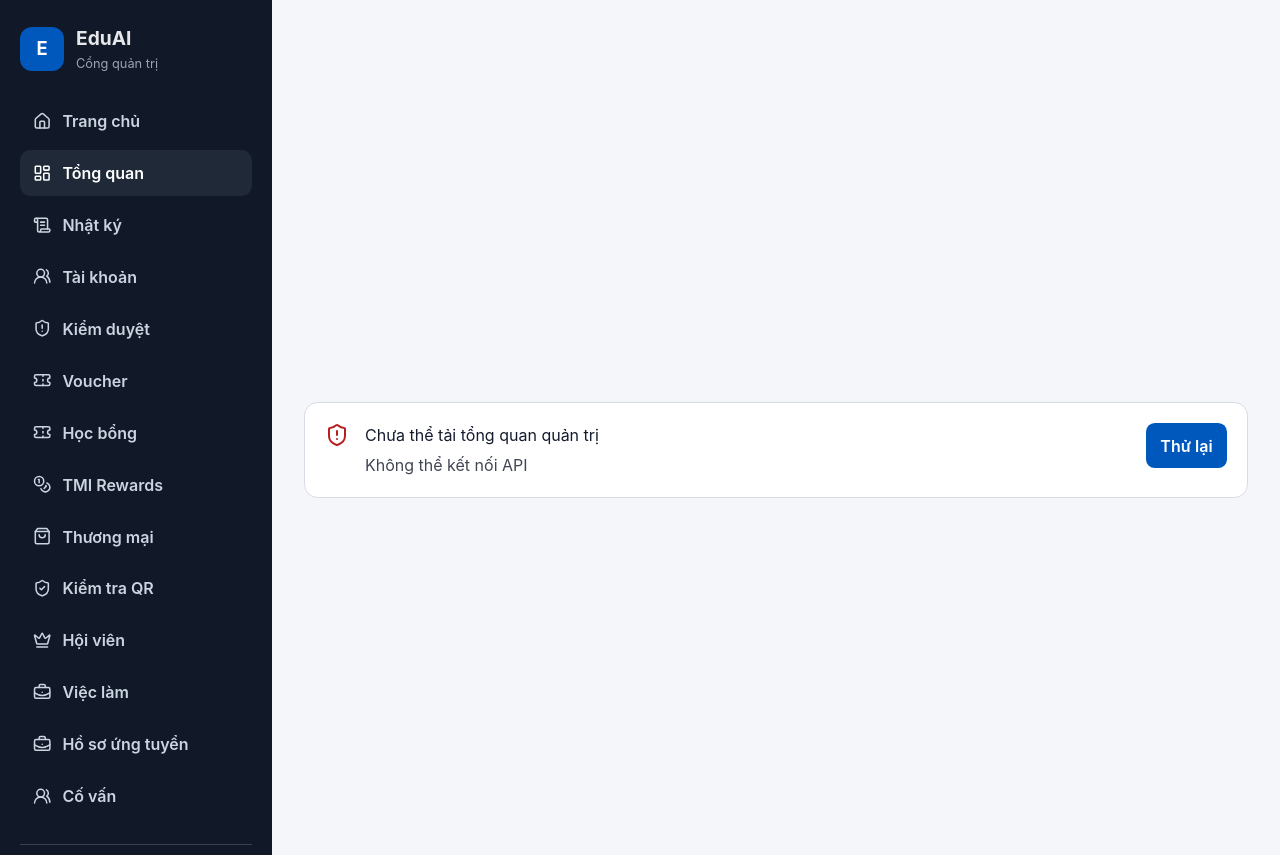
Test: AdminDashboard › retries after an API error
Expected: the message shows "Không thể kết nối API", [365,455,528,475]
Step 1. Click the button "Thử lại" → point(1186, 446), box [1146,423,1227,468]
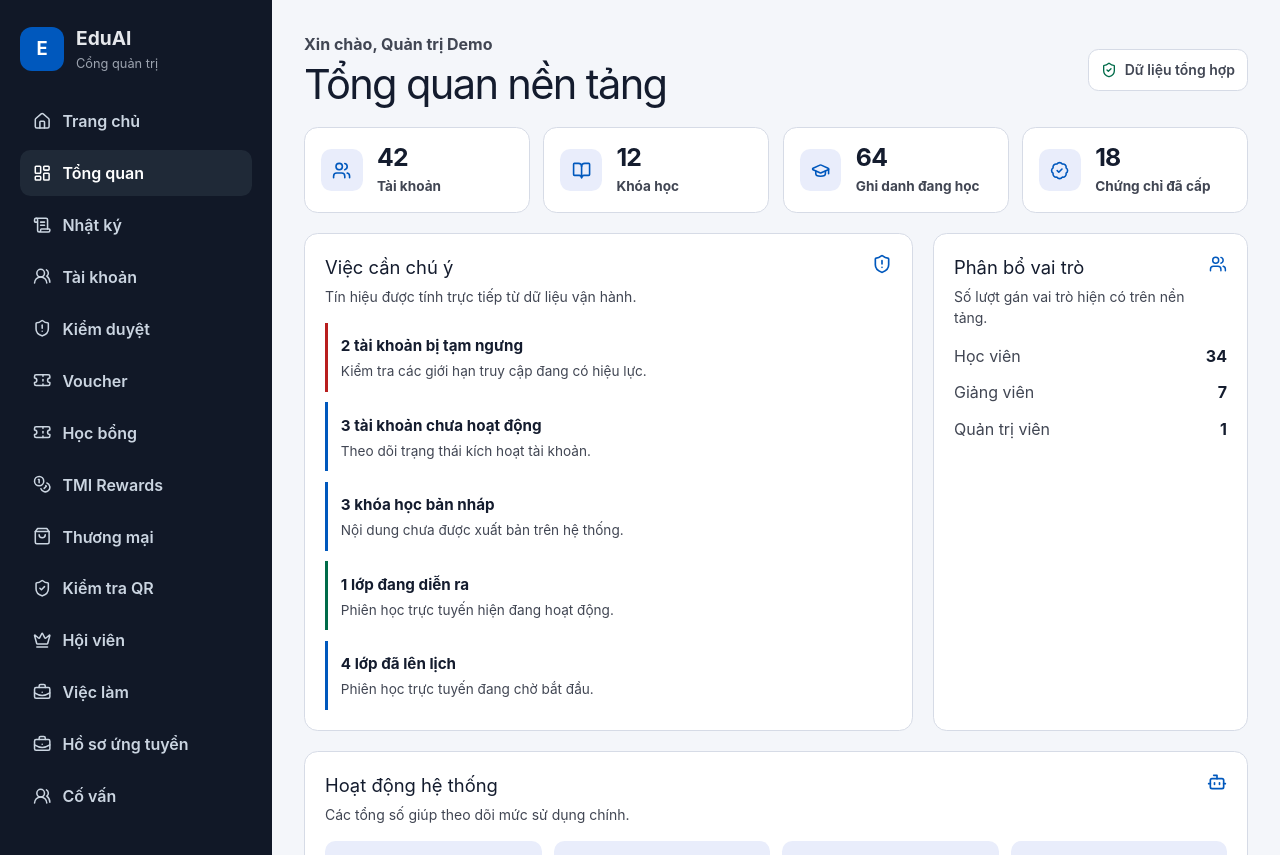
Result: the heading "Tổng quan nền tảng" is shown at [304,62,666,107]
